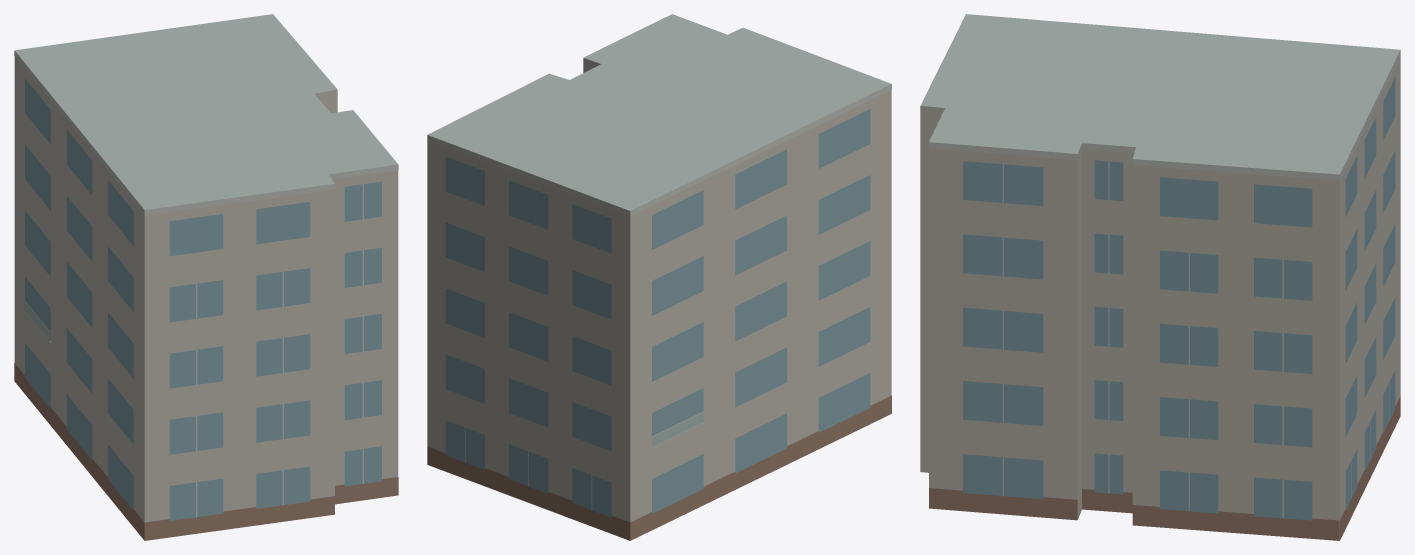
The model's file is survey-upis-32881000.glb.
3 renders of one model, left to right at view 1: azimuth 30°, elevation 25°; view 2: azimuth 150°, elevation 25°; view 3: azimuth 270°, elevation 25°, orthographic. The views are drawn at different scales.
Visible parts, largest first — view 1: survey-upis-32881000.tmp; view 2: survey-upis-32881000.tmp; view 3: survey-upis-32881000.tmp.
Boxes of the visible parts, box(x1,y1,x2,y2) form: survey-upis-32881000.tmp: box(14, 14, 398, 540); survey-upis-32881000.tmp: box(427, 14, 891, 540); survey-upis-32881000.tmp: box(920, 14, 1400, 540).
Size of the model in its own units: 13.59 by 14.45 by 17.18.
